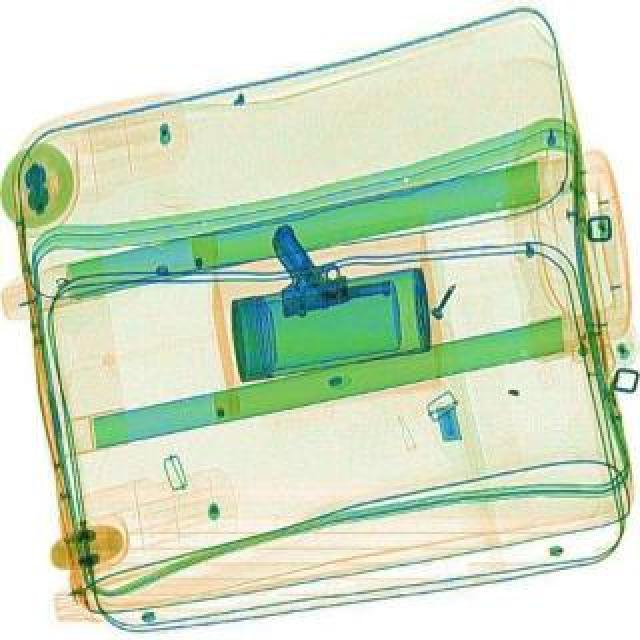gun: (264, 210, 394, 318)
